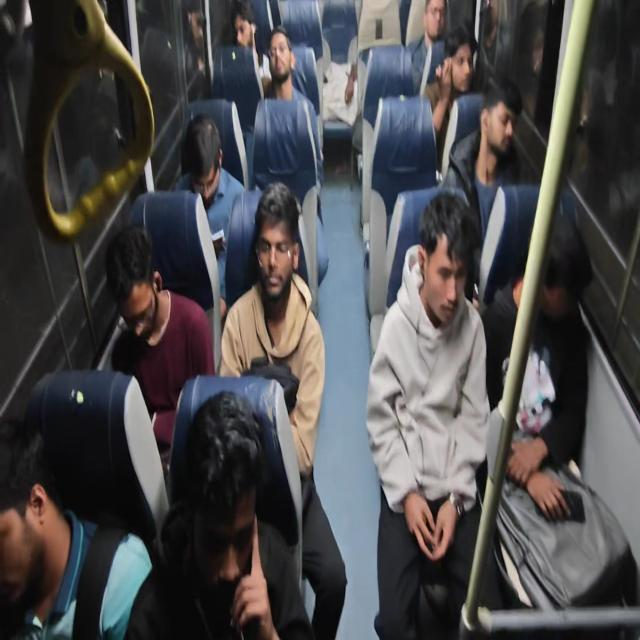person: (219, 180, 348, 638), (365, 190, 492, 638), (124, 389, 314, 639), (479, 207, 593, 611), (0, 417, 154, 639), (105, 224, 215, 468), (441, 74, 524, 301), (260, 25, 328, 284), (172, 112, 245, 316), (423, 25, 476, 177), (261, 25, 323, 153), (407, 0, 447, 95), (229, 0, 265, 95), (475, 0, 510, 85), (183, 1, 210, 101)
